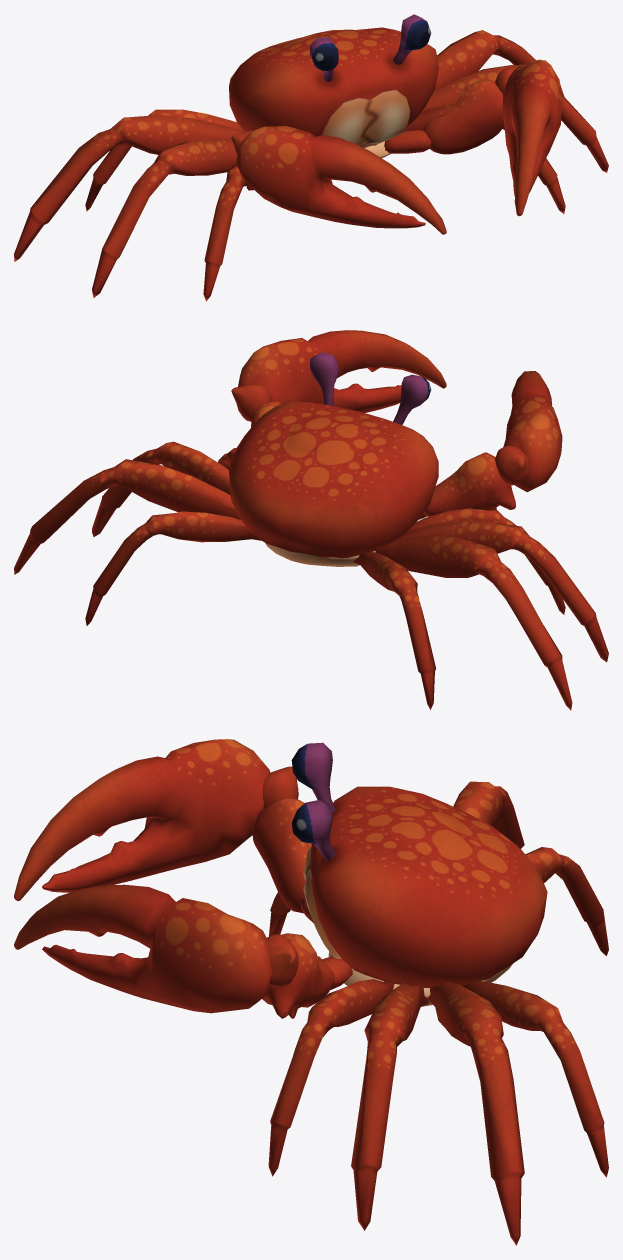
Rendered from Crab.fbx.
3 renders of one model, top to bottom at view 1: azimuth 30°, elevation 25°; view 2: azimuth 150°, elevation 25°; view 3: azimuth 270°, elevation 25°, orthographic. The views are drawn at different scales.
Parts seen in each view (by area): view 1: Tangan4, Badan, Kaki3, Kaki2, Tangan2, Kaki1, Mata, Kaki4, Tangan1, Tangan3; view 2: Badan, Tangan4, Kaki3, Kaki2, Kaki4, Tangan2, Mata, Tangan3, Kaki1, Badan2; view 3: Tangan4, Badan, Kaki3, Kaki4, Kaki2, Tangan2, Kaki1, Mata, Tangan3, Tangan1.
Boxes of the visible parts, left/top/right/bottom form: Tangan4: left=236, top=59, right=562, bottom=234; Badan: left=229, top=27, right=438, bottom=147; Kaki3: left=14, top=30, right=564, bottom=261; Kaki2: left=92, top=65, right=608, bottom=297; Tangan2: left=246, top=79, right=504, bottom=190; Kaki1: left=203, top=104, right=565, bottom=301; Mata: left=309, top=14, right=431, bottom=81; Kaki4: left=85, top=109, right=244, bottom=211; Tangan1: left=384, top=130, right=431, bottom=153; Tangan3: left=231, top=64, right=522, bottom=155; Badan: left=229, top=401, right=438, bottom=558; Tangan4: left=238, top=330, right=562, bottom=492; Kaki3: left=14, top=459, right=572, bottom=710; Kaki2: left=92, top=441, right=608, bottom=662; Kaki4: left=85, top=511, right=435, bottom=709; Tangan2: left=251, top=402, right=515, bottom=516; Mata: left=309, top=352, right=431, bottom=424; Tangan3: left=231, top=384, right=529, bottom=485; Kaki1: left=217, top=448, right=565, bottom=614; Badan2: left=265, top=543, right=375, bottom=566; Tangan4: left=14, top=739, right=271, bottom=1013; Badan: left=303, top=786, right=547, bottom=987; Kaki3: left=427, top=781, right=524, bottom=1245; Kaki4: left=462, top=847, right=608, bottom=1177; Kaki2: left=351, top=983, right=428, bottom=1230; Tangan2: left=252, top=798, right=334, bottom=1018; Kaki1: left=268, top=892, right=394, bottom=1176; Mata: left=291, top=742, right=335, bottom=860; Tangan3: left=262, top=766, right=298, bottom=986; Tangan1: left=300, top=898, right=352, bottom=989.
Bounding box in the file's own units: 1258 × 479 × 881.
1 material, 1 textured.
